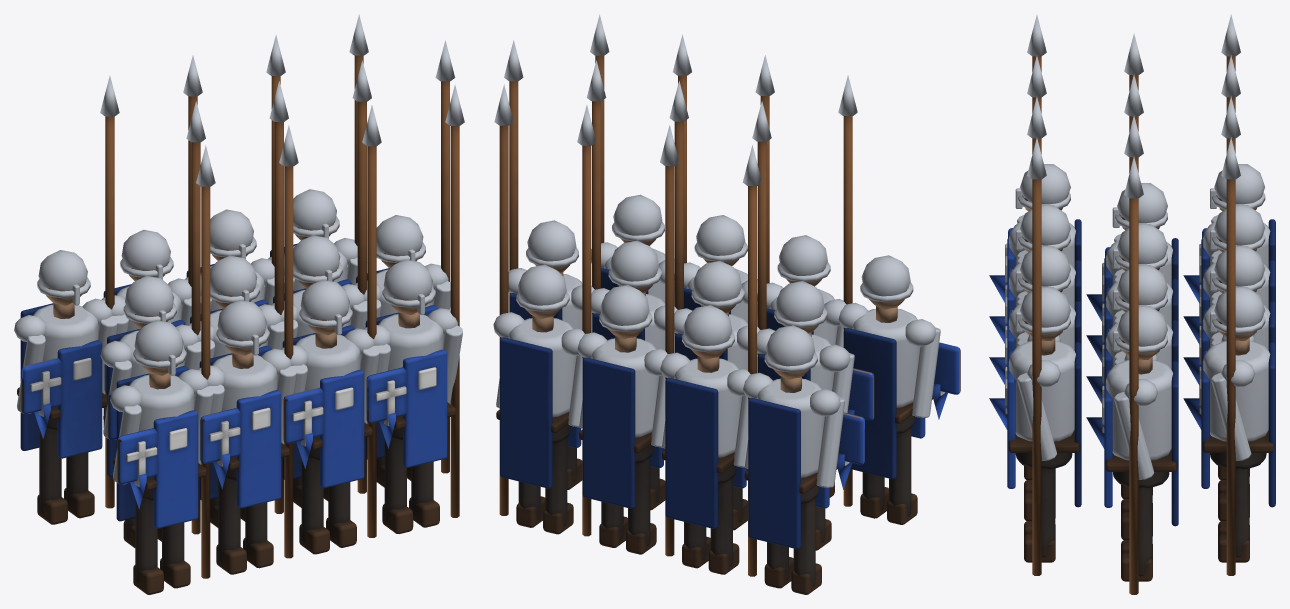
The model's file is squad_blue.glb.
3 views of the same model, side by side, from view 1: azimuth 30°, elevation 25°; view 2: azimuth 150°, elevation 25°; view 3: azimuth 270°, elevation 25° (orthographic).
Parts seen in each view (by area): view 1: leg; view 2: leg; view 3: leg.
Part boxes in pixels (box(x1,y1,x2,y2)): leg: box(14, 14, 464, 594); leg: box(493, 14, 960, 594); leg: box(989, 14, 1275, 594).
Bounding box in the file's own units: 0.6183 × 0.646 × 0.384.
2 materials, 1 textured.
